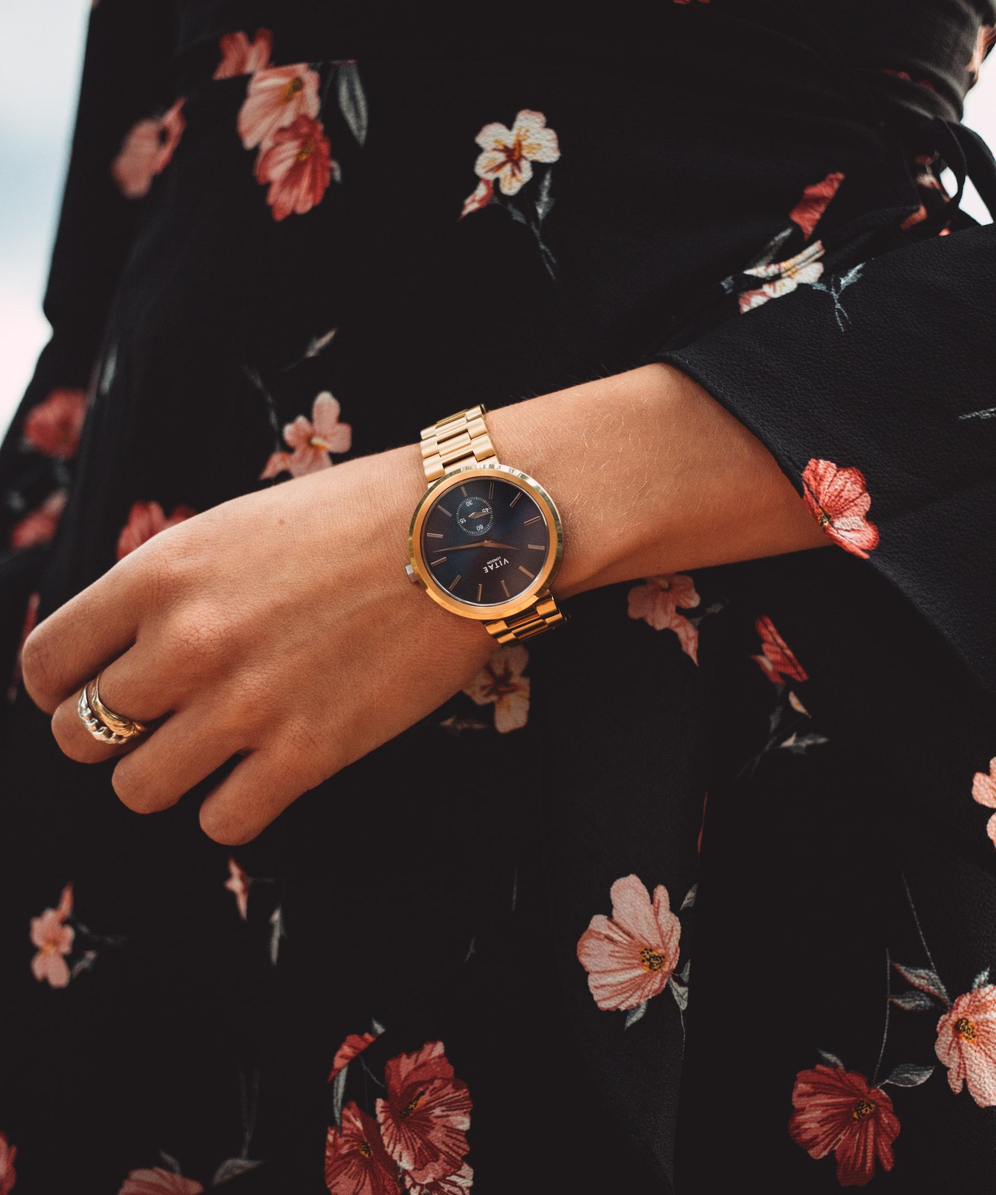watch: (404, 403, 573, 659)
